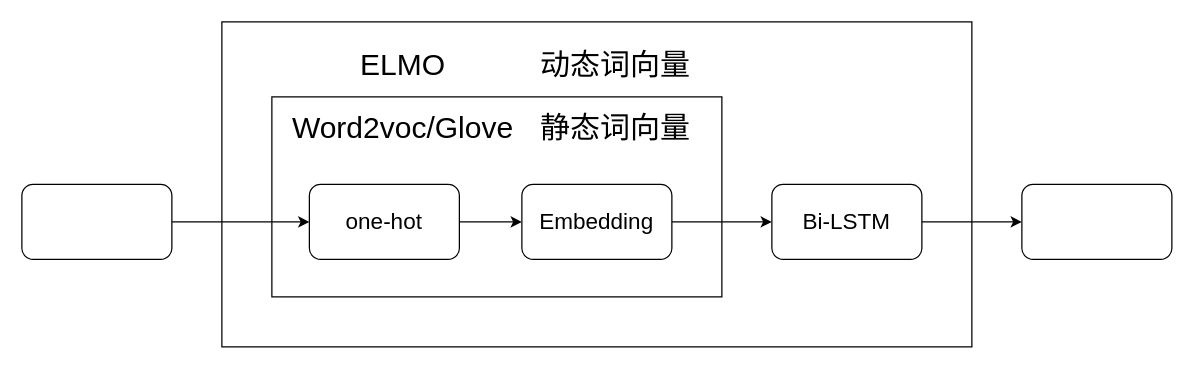
Some shapes in this 1194 by 369 pixel diagram are drawn without their labels. Each missing label, with the centre of its shape:
输入: (x=96, y=221)
输出: (x=1096, y=221)
